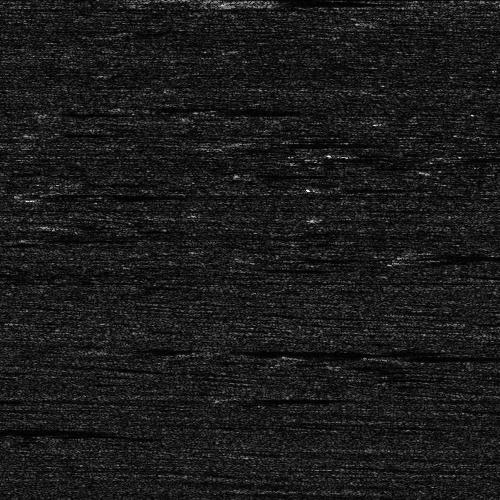rock: (185, 346, 278, 357), (179, 0, 262, 10), (216, 138, 289, 149), (351, 352, 392, 359), (226, 395, 257, 404), (109, 0, 202, 2), (210, 108, 241, 113)
shadow: (232, 346, 485, 357), (253, 138, 402, 149), (221, 0, 332, 10), (372, 352, 500, 359), (0, 434, 102, 441), (242, 395, 314, 404), (156, 0, 476, 2), (226, 108, 337, 113)
